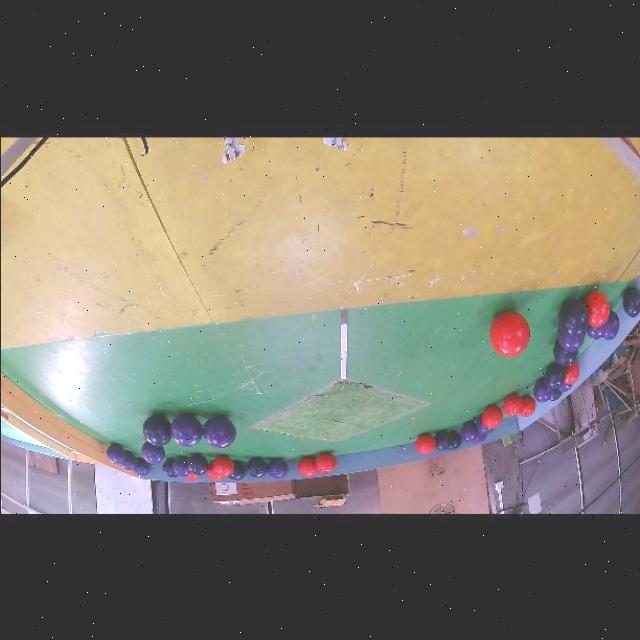B: (557, 300, 587, 337), (141, 415, 170, 446), (552, 339, 577, 366), (621, 286, 640, 317), (543, 364, 565, 390), (186, 454, 207, 475), (245, 458, 267, 477), (228, 460, 245, 480), (433, 430, 449, 451), (161, 458, 177, 477), (447, 430, 460, 451), (549, 390, 561, 402)
P: (202, 415, 236, 449), (170, 415, 202, 447), (556, 327, 584, 352), (140, 442, 164, 464), (532, 379, 552, 403), (603, 311, 619, 340), (266, 458, 287, 479), (106, 443, 126, 464), (172, 456, 190, 477), (585, 322, 607, 339), (459, 421, 477, 441), (475, 415, 493, 434), (121, 451, 136, 471), (134, 458, 149, 476), (472, 434, 485, 443), (557, 385, 572, 392)
R: (489, 311, 530, 357), (583, 290, 608, 327), (481, 405, 502, 429), (211, 455, 233, 477), (415, 433, 436, 455), (502, 394, 522, 416), (314, 453, 336, 473), (297, 456, 317, 477), (518, 395, 535, 417), (564, 362, 579, 385), (205, 464, 222, 481), (185, 473, 199, 480)
